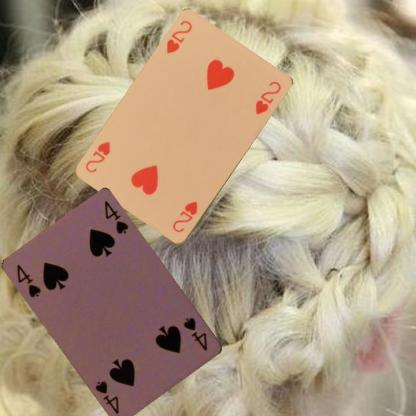2h: (164, 18, 193, 55), (170, 199, 199, 234)
4s: (181, 315, 210, 352), (14, 262, 43, 299)
